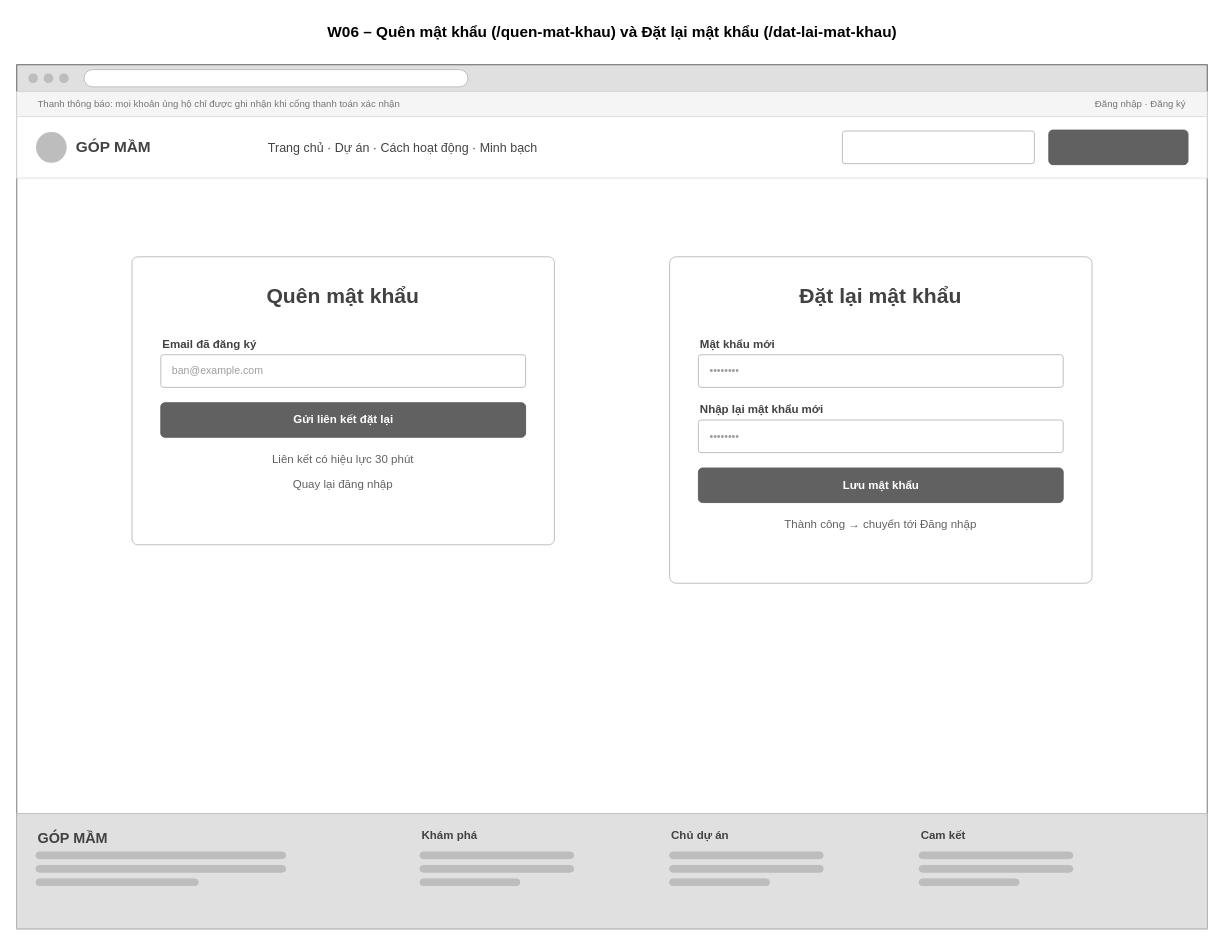
Some shapes in this 1224 by 946 pixel diagram are drawn without their labels. The shapes that lost their labels are listed below. From the top down, each one's centre as x and y in pixels, then its label:
At pixel 275 78: "https://gopmam.com".
At pixel 937 147: "Tìm dự án…".
At pixel 1118 147: "Tạo chiến dịch".
